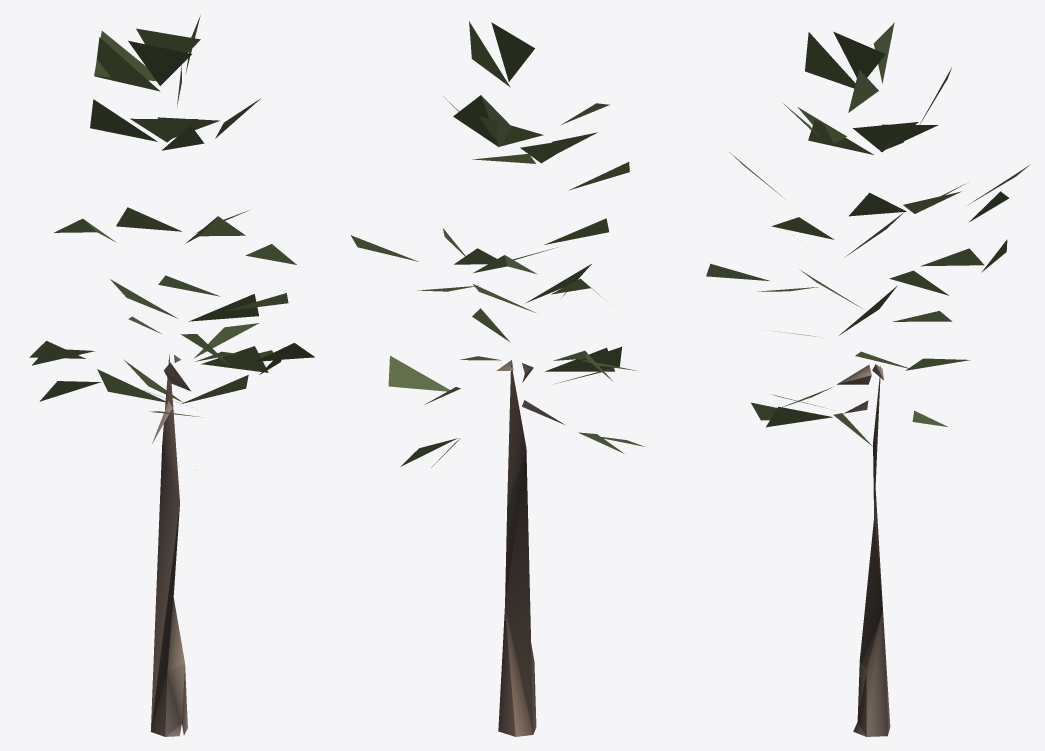
File: sf_pine_2_lod.glb
3 renders of one model, left to right at view 1: azimuth 30°, elevation 25°; view 2: azimuth 150°, elevation 25°; view 3: azimuth 270°, elevation 25°, orthographic.
Visible parts, largest first — view 1: Tree_0_Tree_0Mat_0; view 2: Tree_0_Tree_0Mat_0; view 3: Tree_0_Tree_0Mat_0.
Boxes of the visible parts, x1=… form: Tree_0_Tree_0Mat_0: x1=29, y1=15, x2=314, y2=736; Tree_0_Tree_0Mat_0: x1=351, y1=21, x2=644, y2=736; Tree_0_Tree_0Mat_0: x1=706, y1=22, x2=1030, y2=736.
Size of the model in its own units: 3.95 by 9.68 by 4.08.
